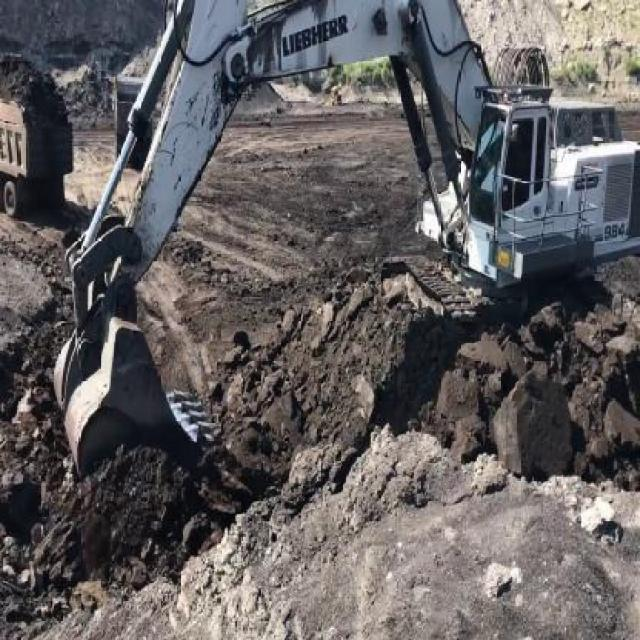dump_truck: (0, 79, 74, 218), (111, 78, 152, 164)
excavator: (50, 0, 639, 505)
